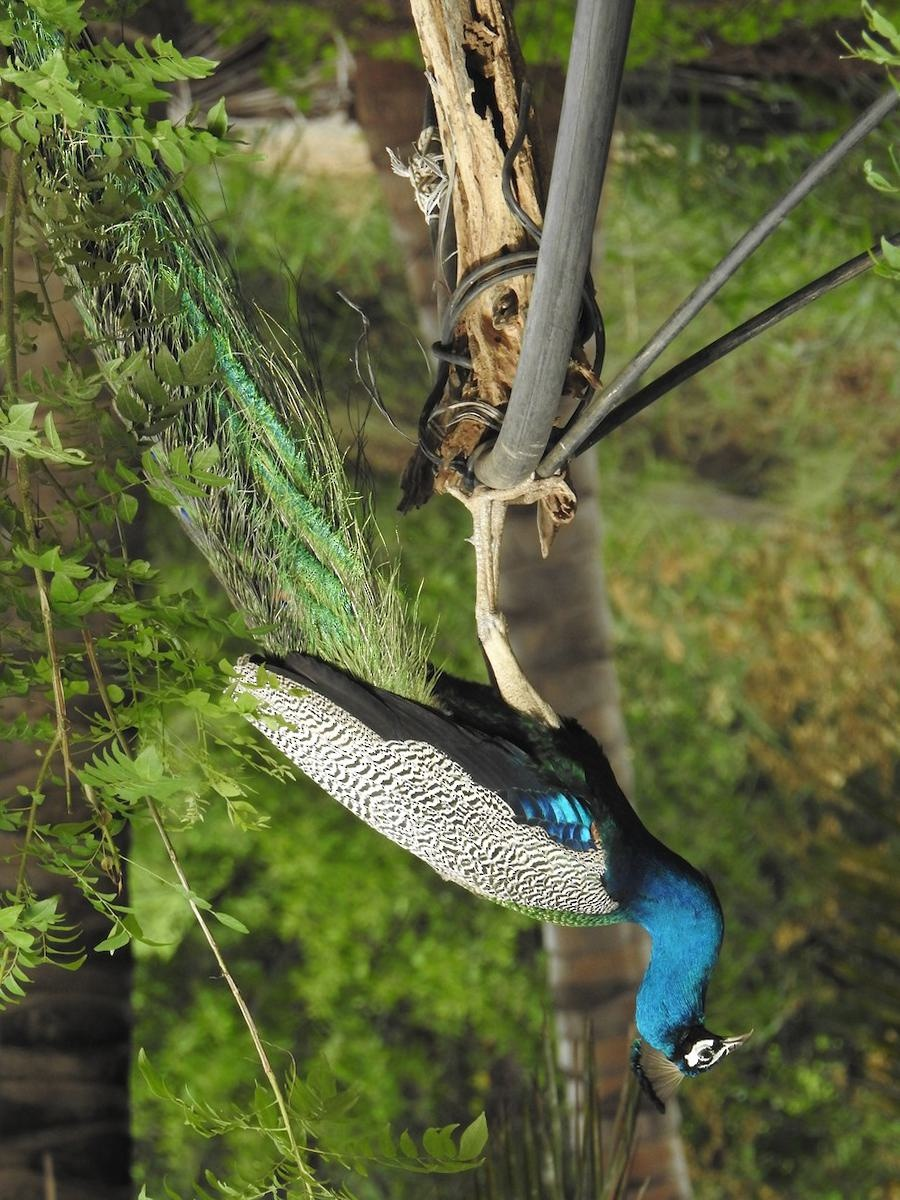peacock: (257, 593, 785, 1085)
